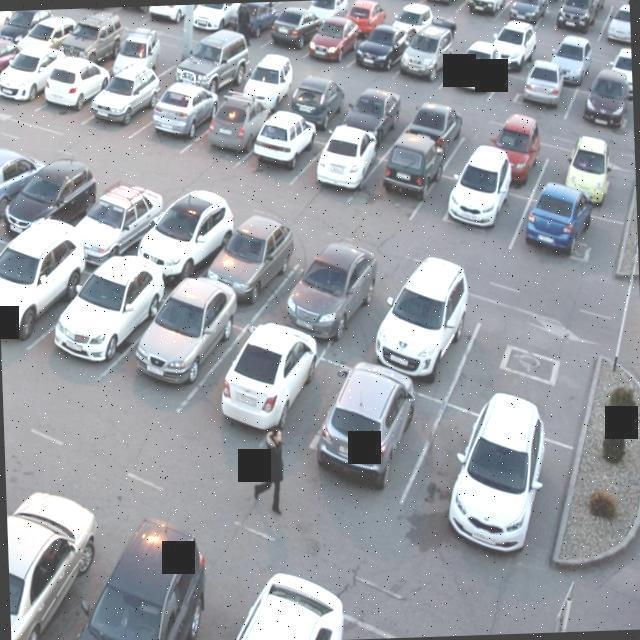space-empty: (456, 307, 586, 431), (447, 14, 494, 63), (271, 1, 312, 16)
space-occupied: (434, 403, 560, 555), (200, 322, 330, 449), (319, 356, 416, 498), (56, 262, 165, 379), (371, 281, 483, 392), (274, 241, 395, 334), (131, 289, 227, 388), (134, 186, 232, 280), (0, 241, 81, 347), (199, 215, 292, 305), (519, 187, 608, 274), (429, 164, 520, 246), (4, 160, 97, 231), (77, 190, 158, 269), (33, 55, 120, 125), (466, 116, 557, 182), (137, 76, 221, 147), (369, 133, 444, 208), (390, 95, 474, 161), (242, 106, 324, 172), (0, 133, 59, 223), (175, 33, 260, 95), (306, 124, 381, 194), (229, 48, 303, 117), (394, 22, 467, 91), (548, 150, 627, 213), (87, 66, 163, 130), (282, 63, 349, 134), (342, 14, 408, 83), (196, 93, 266, 156), (0, 42, 60, 115), (62, 7, 133, 68), (299, 0, 360, 67), (113, 21, 177, 84), (341, 81, 406, 143), (503, 50, 568, 112), (440, 39, 505, 101), (574, 79, 634, 140), (535, 21, 594, 82), (263, 0, 324, 53), (488, 11, 540, 66), (226, 2, 282, 43), (545, 0, 602, 39), (387, 0, 434, 46), (182, 3, 244, 37), (591, 44, 633, 94), (137, 4, 201, 31), (345, 0, 384, 39), (598, 9, 631, 55), (0, 32, 25, 88), (499, 0, 551, 26), (311, 0, 357, 25), (458, 0, 510, 21), (424, 0, 466, 17), (109, 5, 165, 17), (73, 7, 126, 15)
